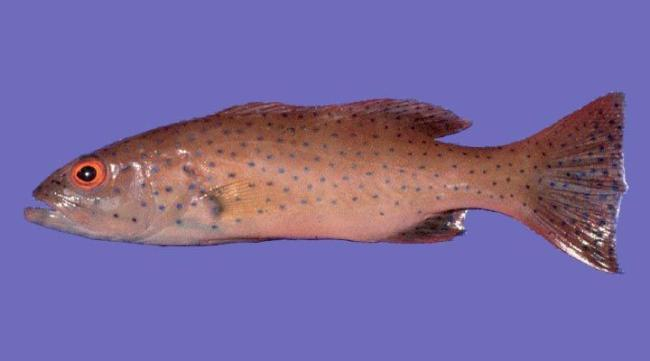fish: (24, 90, 630, 275)
